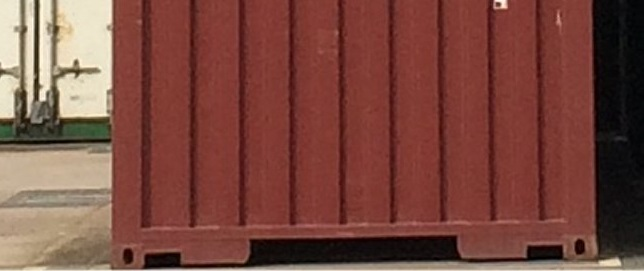container_no_door: (109, 2, 595, 270)
